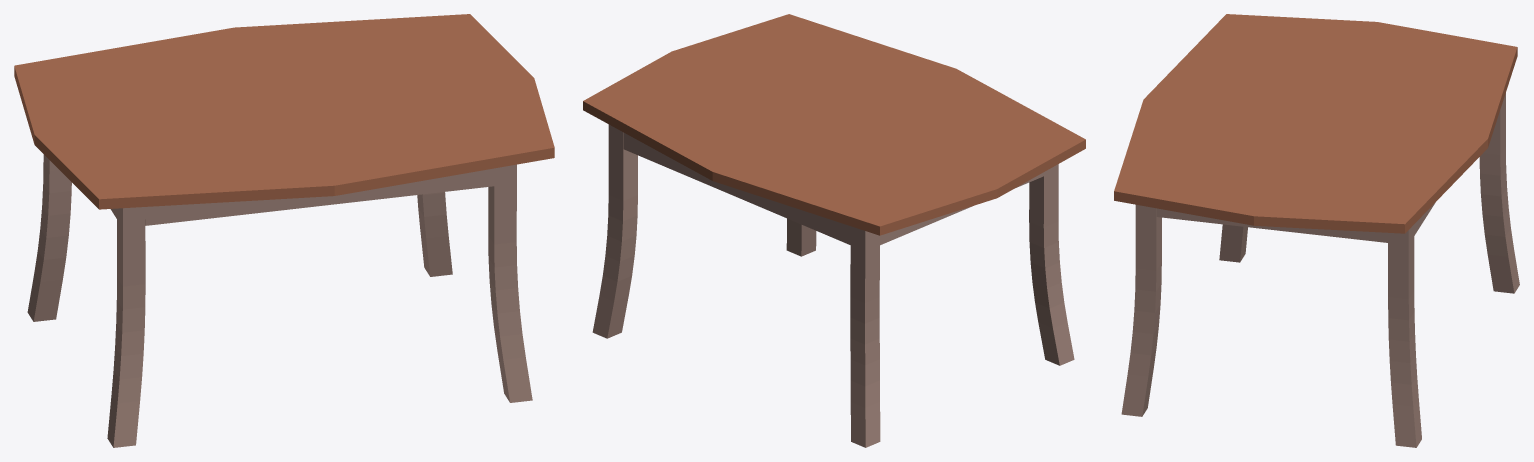
Rendered from af8a3cbe-c0f2-476f-83ce-d3cd160e62e7.glb.
3 renders of one model, left to right at view 1: azimuth 30°, elevation 25°; view 2: azimuth 150°, elevation 25°; view 3: azimuth 270°, elevation 25°, orthographic. The views are drawn at different scales.
Visible parts, largest first — view 1: Box001, Box004, Box005, Box007, Box003, Box002; view 2: Box001, Box003, Box002, Box004, Box006, Box005, Box009; view 3: Box001, Box002, Box005, Box003, Box008, Box004.
Part boxes in pixels (x1=…): Box001: x1=14, y1=14, x2=554, y2=209; Box004: x1=107, y1=207, x2=145, y2=447; Box005: x1=488, y1=164, x2=532, y2=402; Box007: x1=145, y1=168, x2=494, y2=225; Box003: x1=27, y1=154, x2=71, y2=321; Box002: x1=417, y1=192, x2=452, y2=276; Box001: x1=583, y1=14, x2=1085, y2=235; Box003: x1=850, y1=226, x2=880, y2=447; Box002: x1=592, y1=124, x2=637, y2=338; Box004: x1=1029, y1=164, x2=1074, y2=365; Box006: x1=623, y1=133, x2=850, y2=244; Box005: x1=786, y1=218, x2=816, y2=256; Box009: x1=880, y1=172, x2=1043, y2=245; Box001: x1=1114, y1=14, x2=1517, y2=233; Box002: x1=1388, y1=224, x2=1421, y2=447; Box005: x1=1121, y1=204, x2=1161, y2=416; Box003: x1=1479, y1=93, x2=1519, y2=293; Box008: x1=1156, y1=208, x2=1387, y2=242; Box004: x1=1219, y1=224, x2=1247, y2=262.
Bounding box in the file's own units: 530767 × 272424 × 433136.
